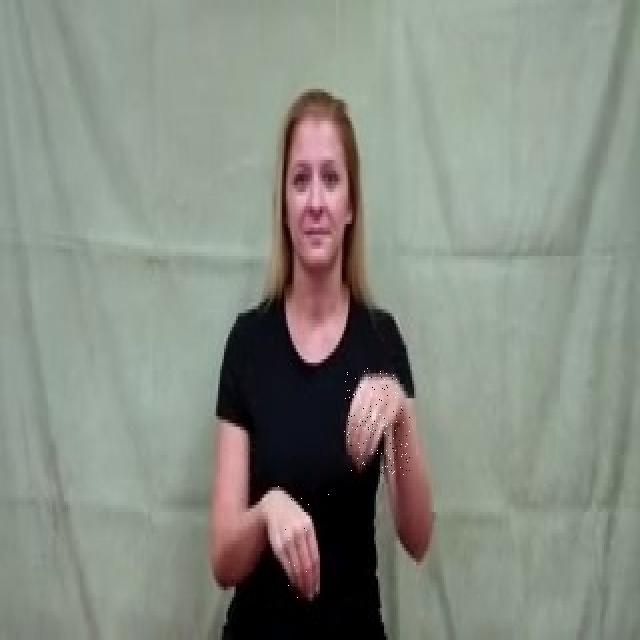ingredients: (264, 482, 330, 610), (344, 367, 410, 475)
